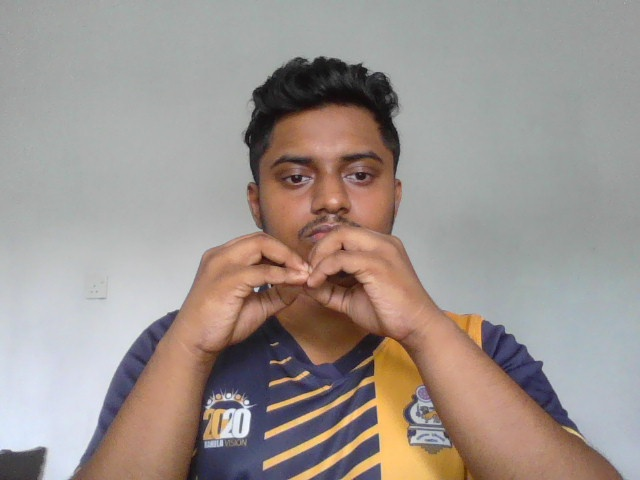More: (184, 224, 436, 354)
